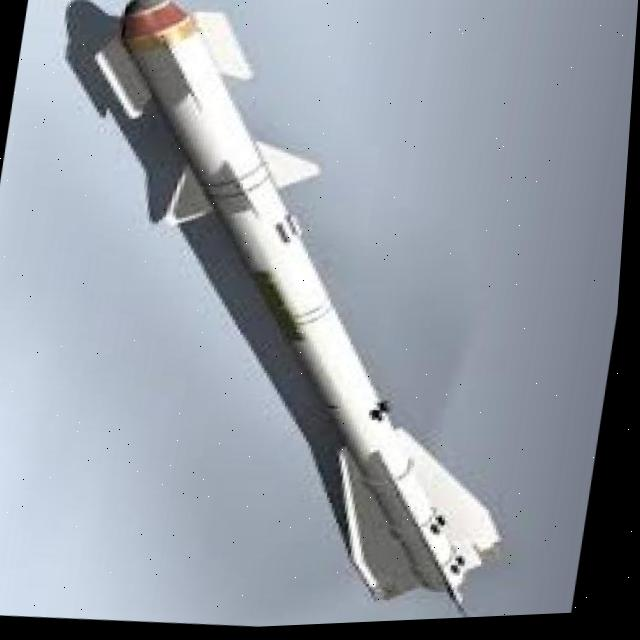missile: (19, 0, 578, 629)
